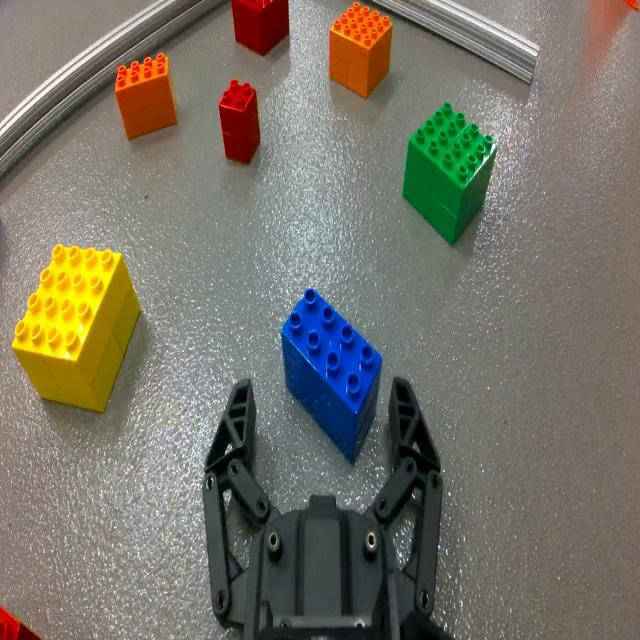block: (10, 242, 140, 417)
blue: (278, 281, 381, 464)
green: (402, 103, 495, 252)
metal barrier: (355, 0, 542, 85)
orange: (325, 1, 392, 100), (116, 54, 179, 142)
red goal: (219, 78, 261, 167), (230, 0, 289, 52)
